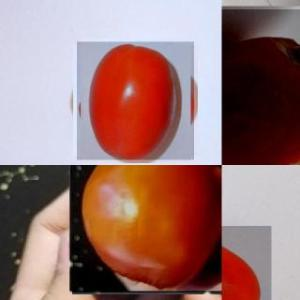tomato: (76, 42, 194, 160), (222, 226, 272, 300)
